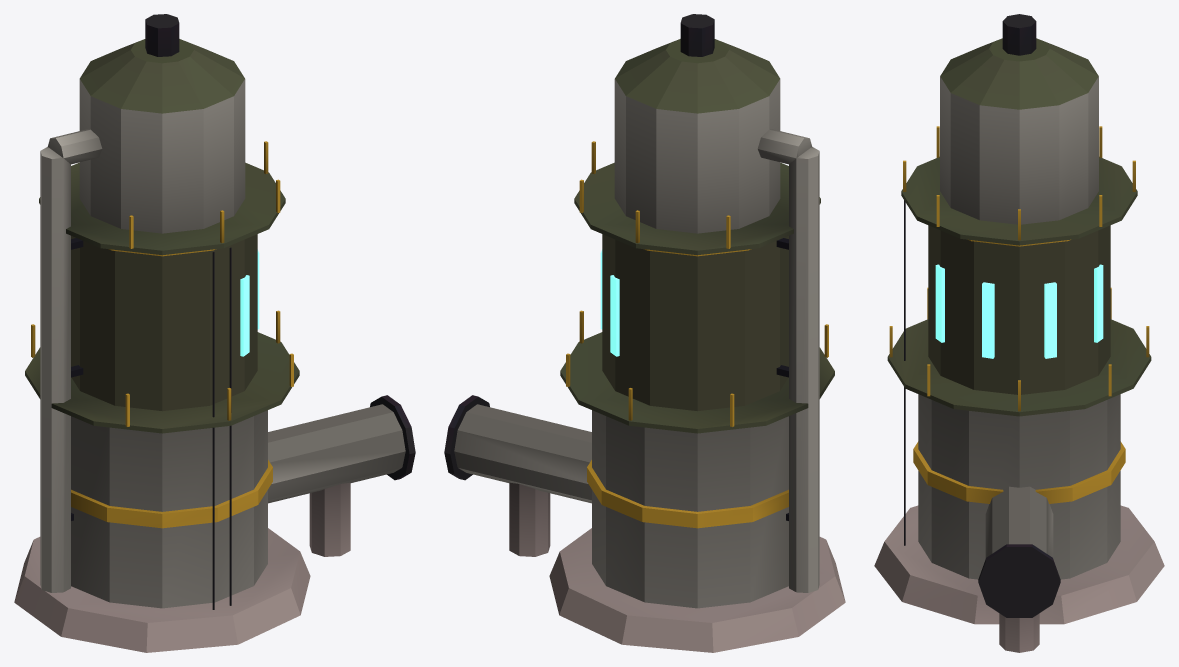
The model's file is kit.dispersal-filtration-tower.lod1.glb.
3 views of the same model, side by side, from view 1: azimuth 30°, elevation 25°; view 2: azimuth 150°, elevation 25°; view 3: azimuth 270°, elevation 25° (orthographic). The views are drawn at different scales.
Visible parts, largest first — view 1: body; view 2: body; view 3: body.
Boxes of the visible parts, x1,y1,x2,y2 form: body: (14, 14, 415, 652); body: (444, 14, 845, 652); body: (874, 14, 1164, 652).
Size of the model in its own units: 11.69 by 17.8 by 8.6.
